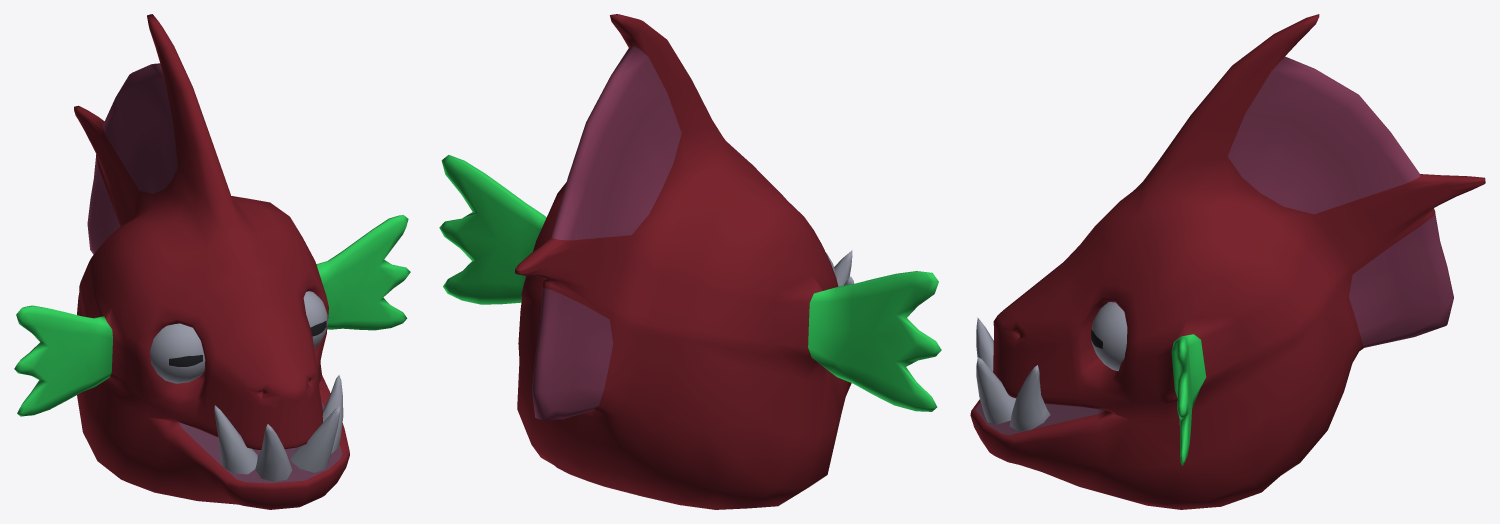
The model's file is TackleEnemy.obj.
3 renders of one model, left to right at view 1: azimuth 30°, elevation 25°; view 2: azimuth 150°, elevation 25°; view 3: azimuth 270°, elevation 25°, orthographic. The views are drawn at different scales.
Parts seen in each view (by area): view 1: Fish_Blob, Fish_Blob.002, Fish_Blob.001; view 2: Fish_Blob; view 3: Fish_Blob, Fish_Blob.002, Fish_Blob.001.
Part boxes in pixels (x1,y1,x2,y2): Fish_Blob: [14, 14, 410, 509]; Fish_Blob.002: [214, 375, 343, 481]; Fish_Blob.001: [150, 291, 327, 383]; Fish_Blob: [439, 14, 941, 509]; Fish_Blob: [970, 14, 1485, 509]; Fish_Blob.002: [976, 317, 1050, 431]; Fish_Blob.001: [1091, 302, 1127, 371].
Size of the model in its own units: 2.8 by 2.76 by 2.82.
1 material, 1 textured.
